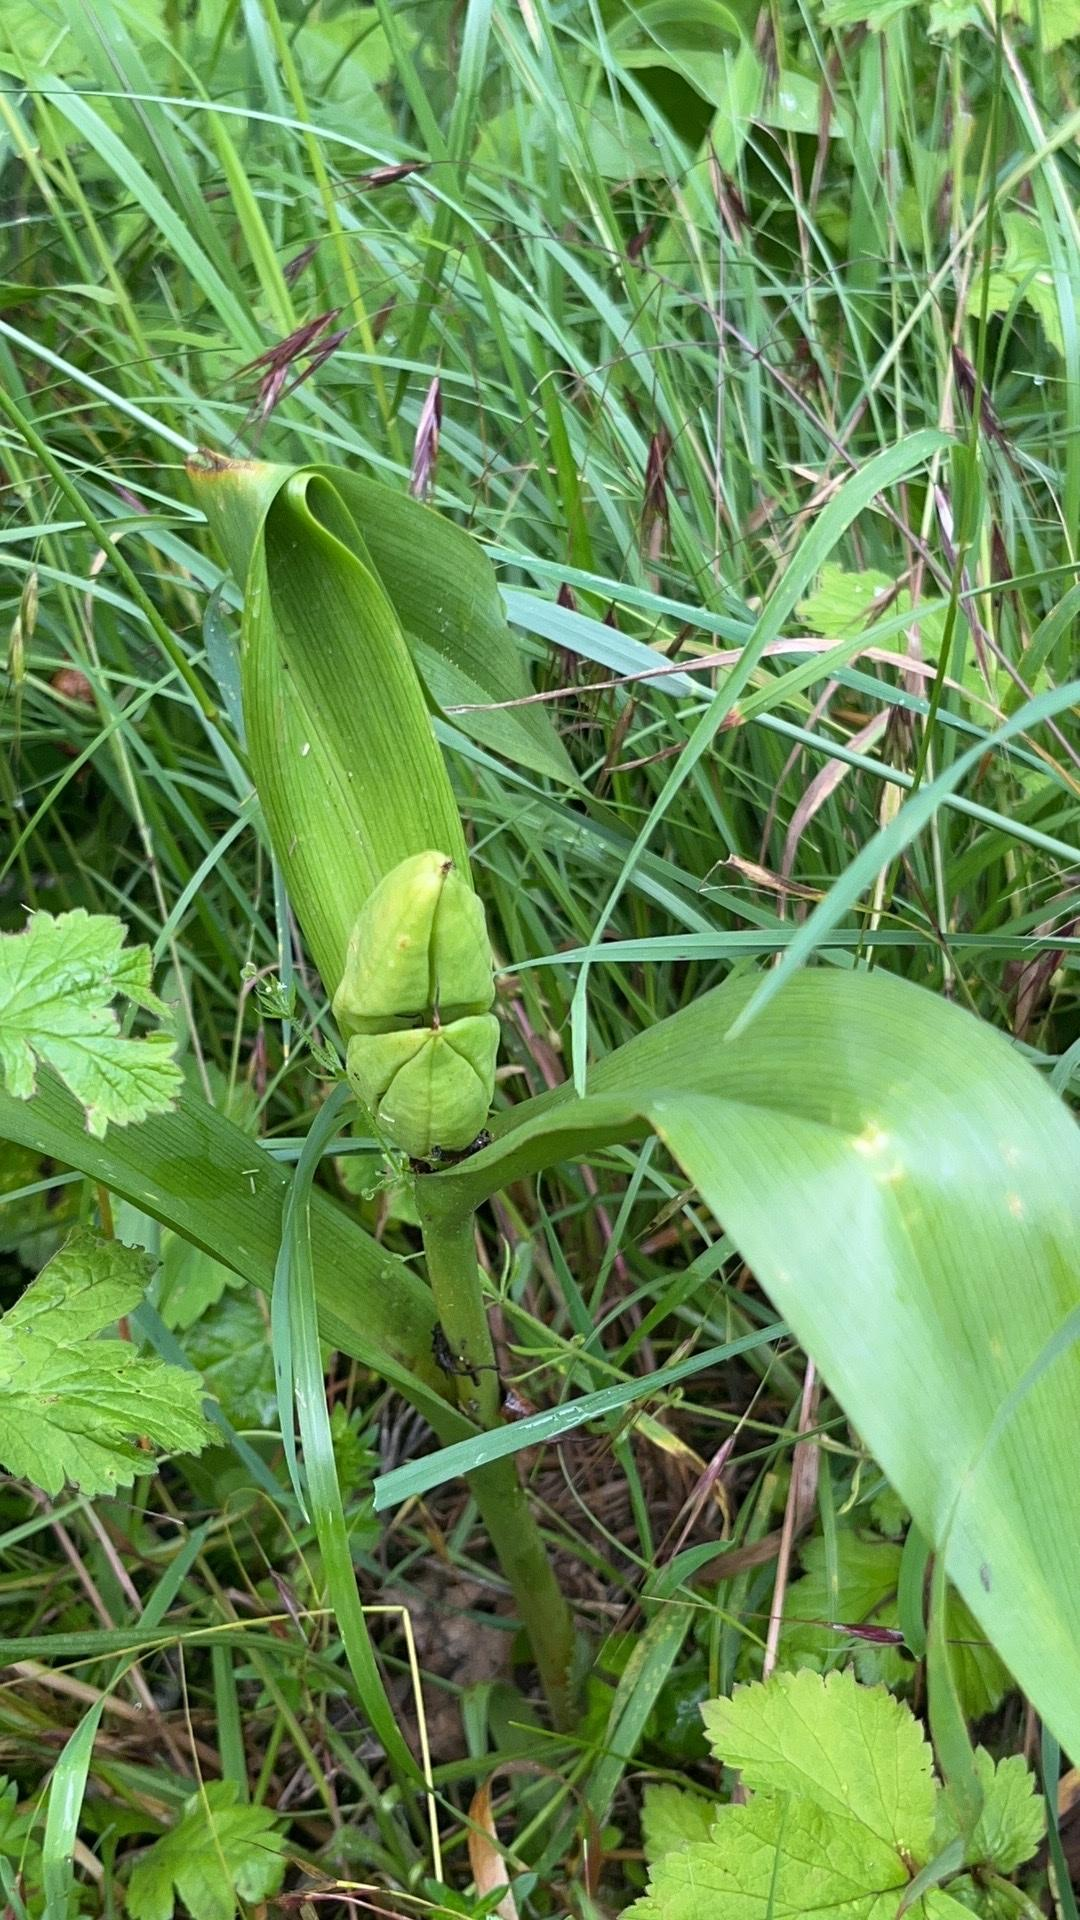Colchicum autumnale L: (34, 414, 1080, 1726)
